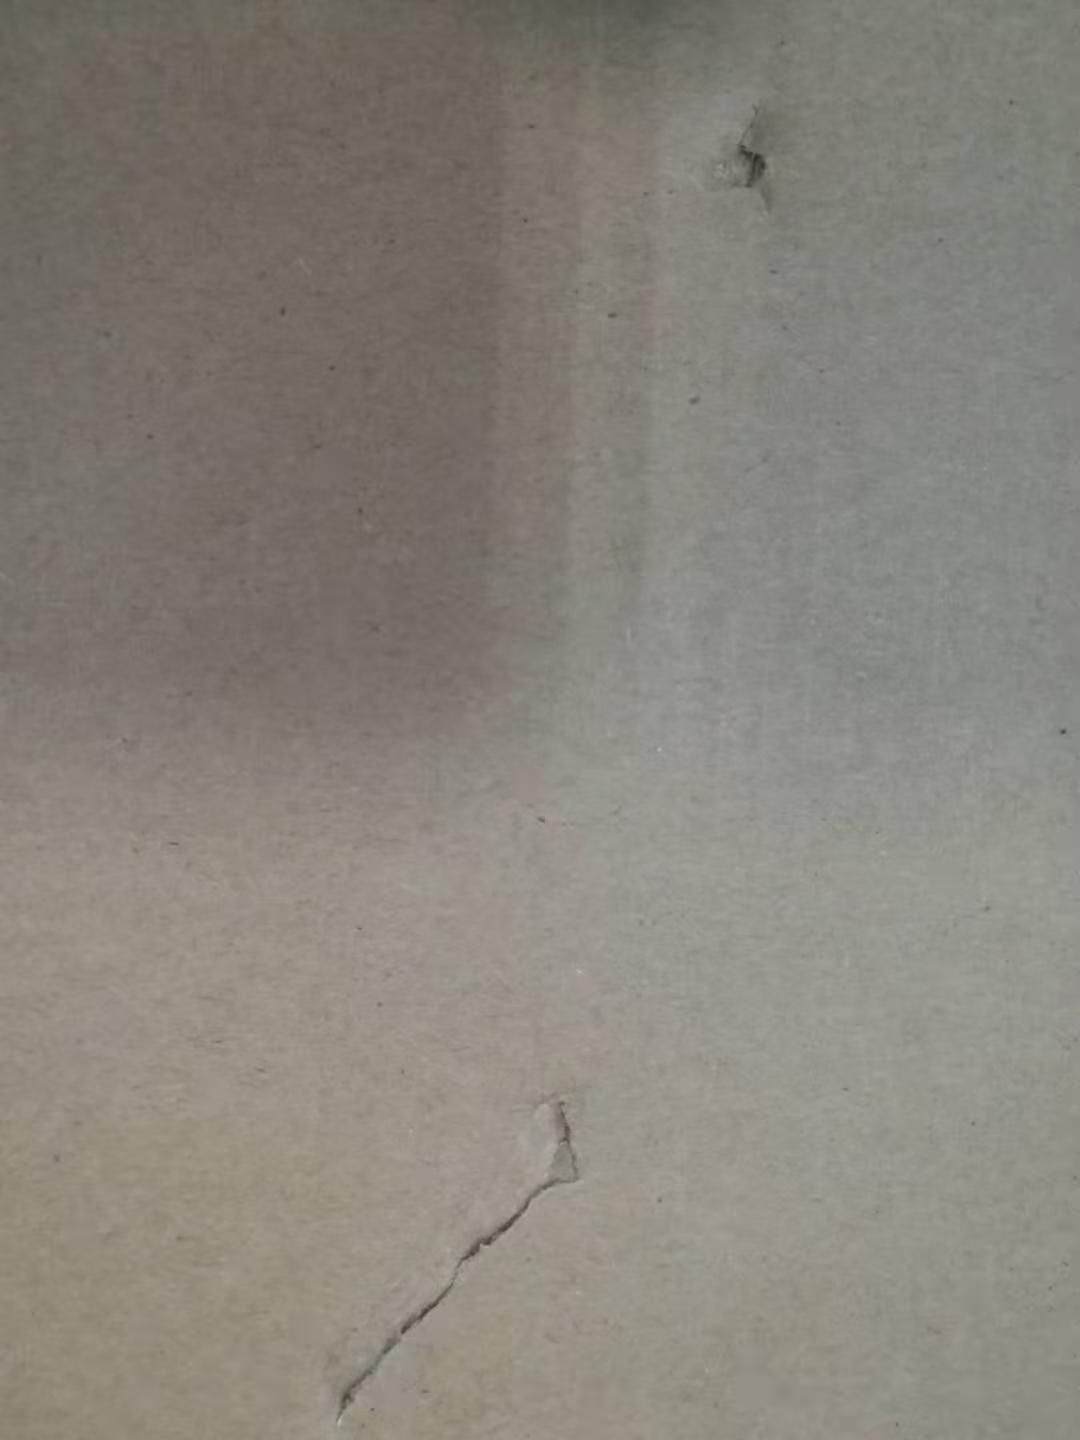defect: (279, 1042, 649, 1428), (669, 65, 817, 238)
